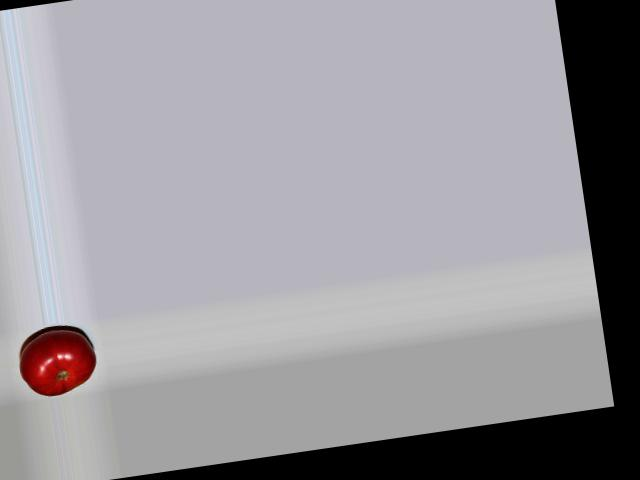tomato: (14, 326, 100, 400)
